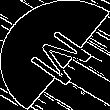M_SE: (17, 21, 93, 89)
